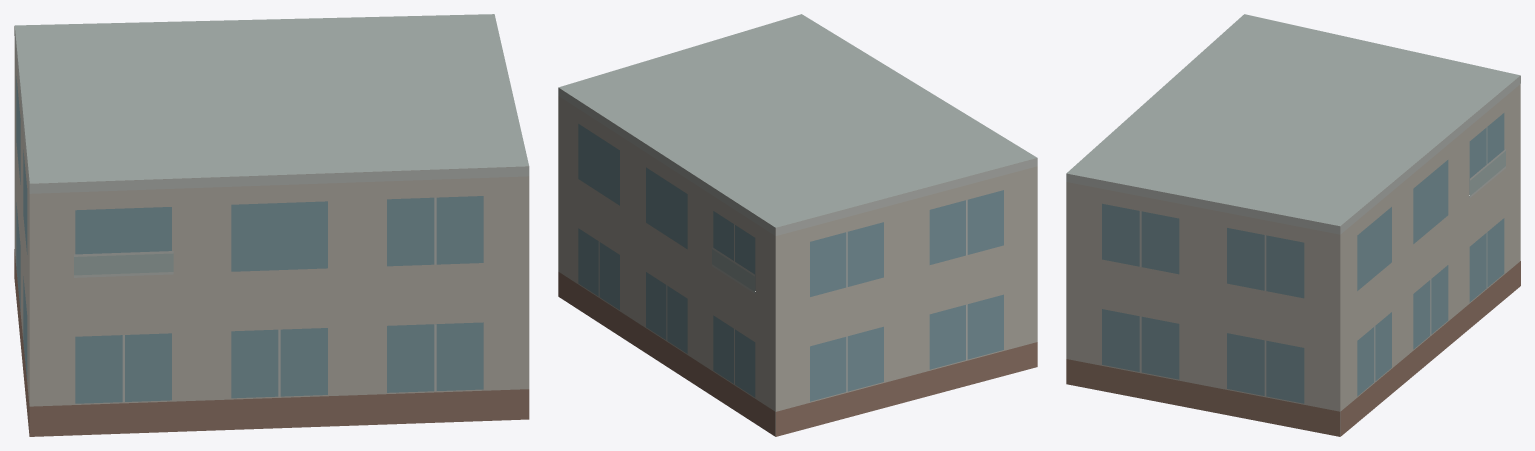
Rendered from survey-upis-32669327.glb.
The picture shows the model from 3 angles, left to right: view 1: azimuth 30°, elevation 25°; view 2: azimuth 150°, elevation 25°; view 3: azimuth 270°, elevation 25°; orthographic projection. The views are drawn at different scales.
Parts seen in each view (by area): view 1: survey-upis-32669327.tmp; view 2: survey-upis-32669327.tmp; view 3: survey-upis-32669327.tmp.
Part boxes in pixels (<box>): survey-upis-32669327.tmp: <box>14,14,529,436</box>; survey-upis-32669327.tmp: <box>558,14,1037,436</box>; survey-upis-32669327.tmp: <box>1066,14,1520,436</box>.
Size of the model in its own units: 13.19 by 6.1 by 11.94.
